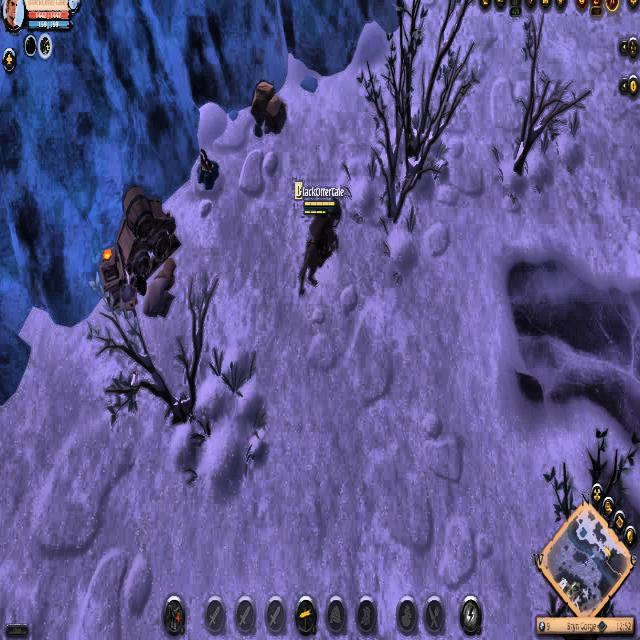copperore: (193, 147, 221, 192)
limestone: (250, 75, 288, 142)
